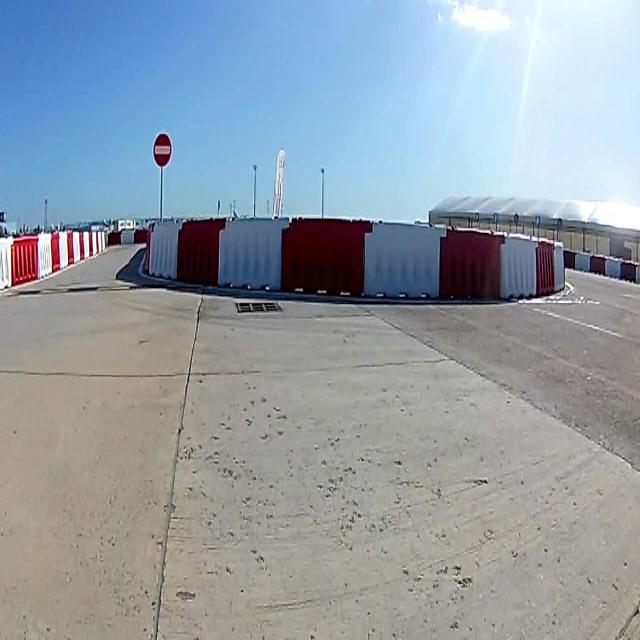girisyok: (152, 132, 172, 168)
